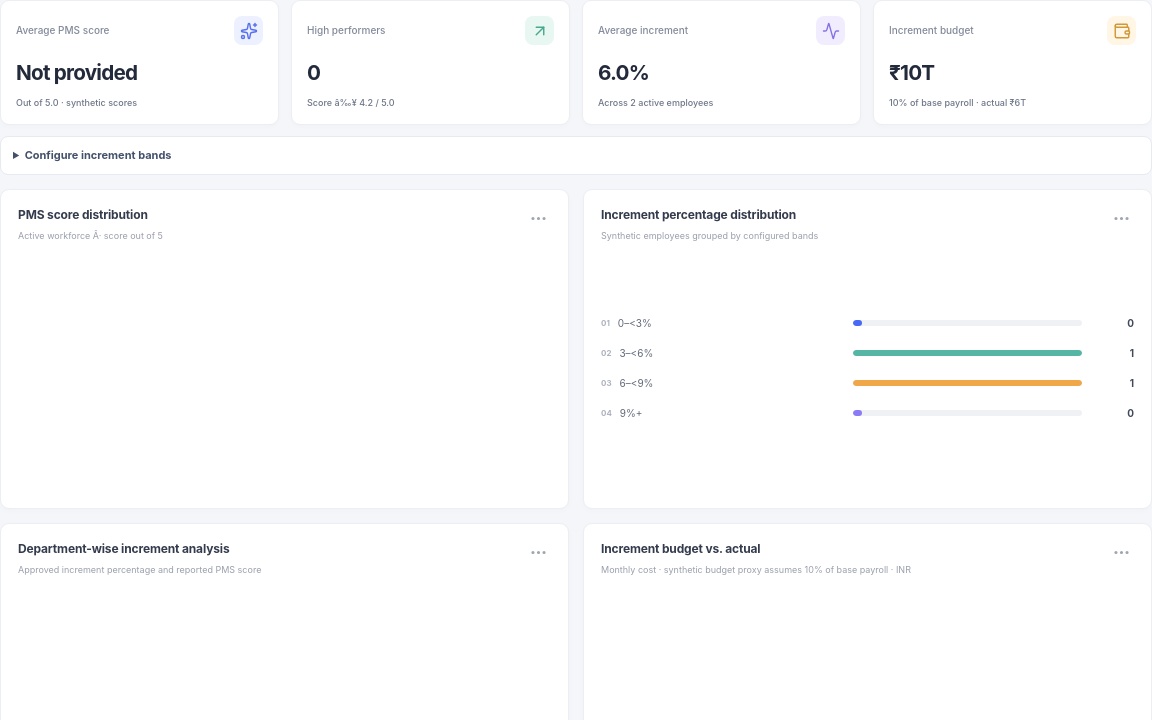
Test: configurable increment bands › applies valid cutoffs and updates the visible distribution
Click the heading "Configure increment bands" at coordinates (98, 155), box [25,148,172,162]
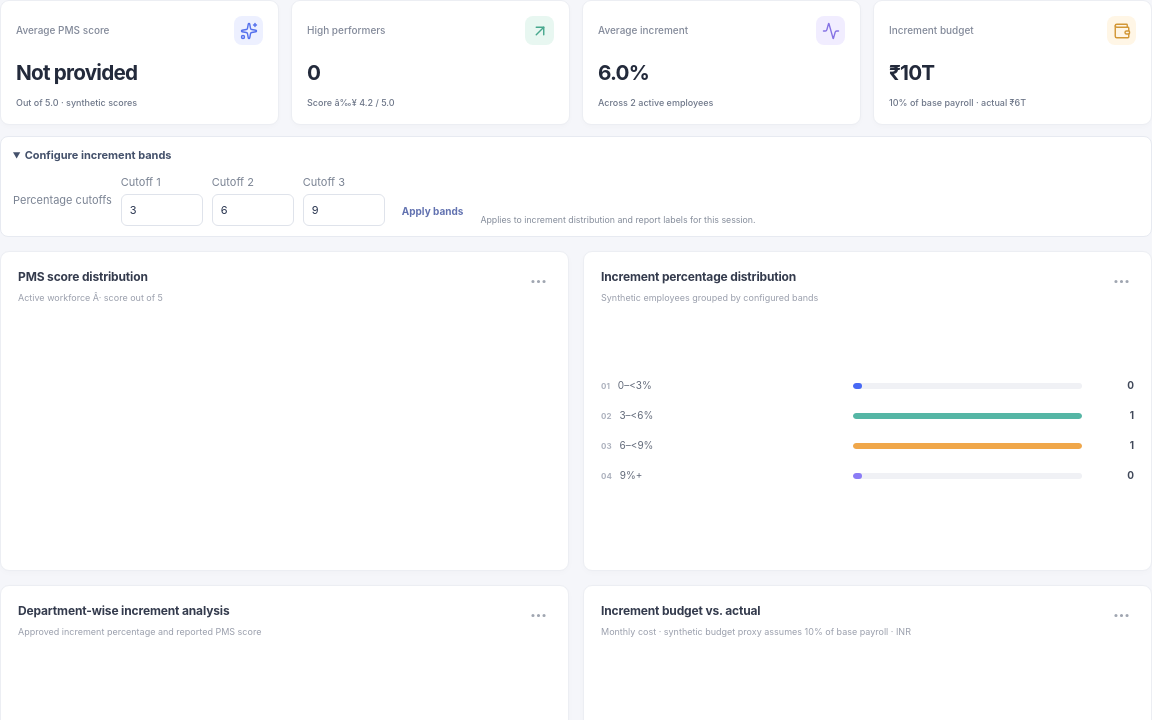
Expected: the text "3–<6%" is shown, [619,408,653,423]
Expected: the text "6–<9%" is shown, [620,438,653,453]
Replace the text in the number field named "Increment band cutoff 1" with "5" at coordinates (162, 210), box [121,194,203,226]
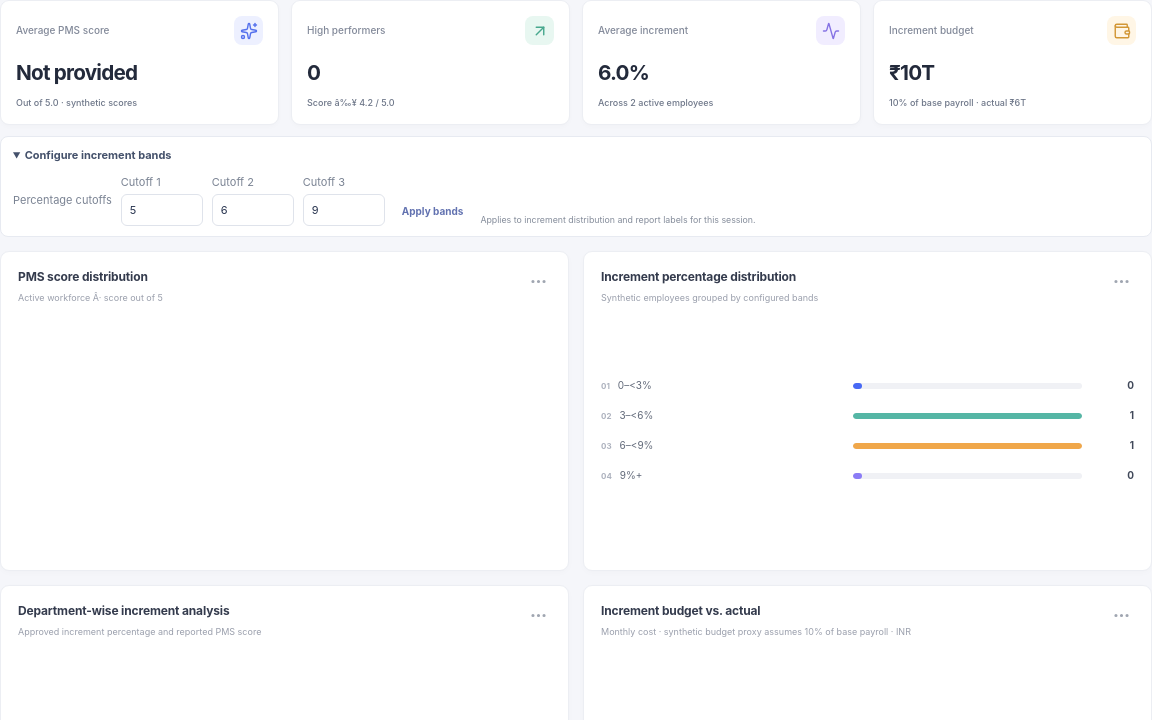
Replace the text in the number field named "Increment band cutoff 2" with "10" at coordinates (253, 210), box [212,194,294,226]
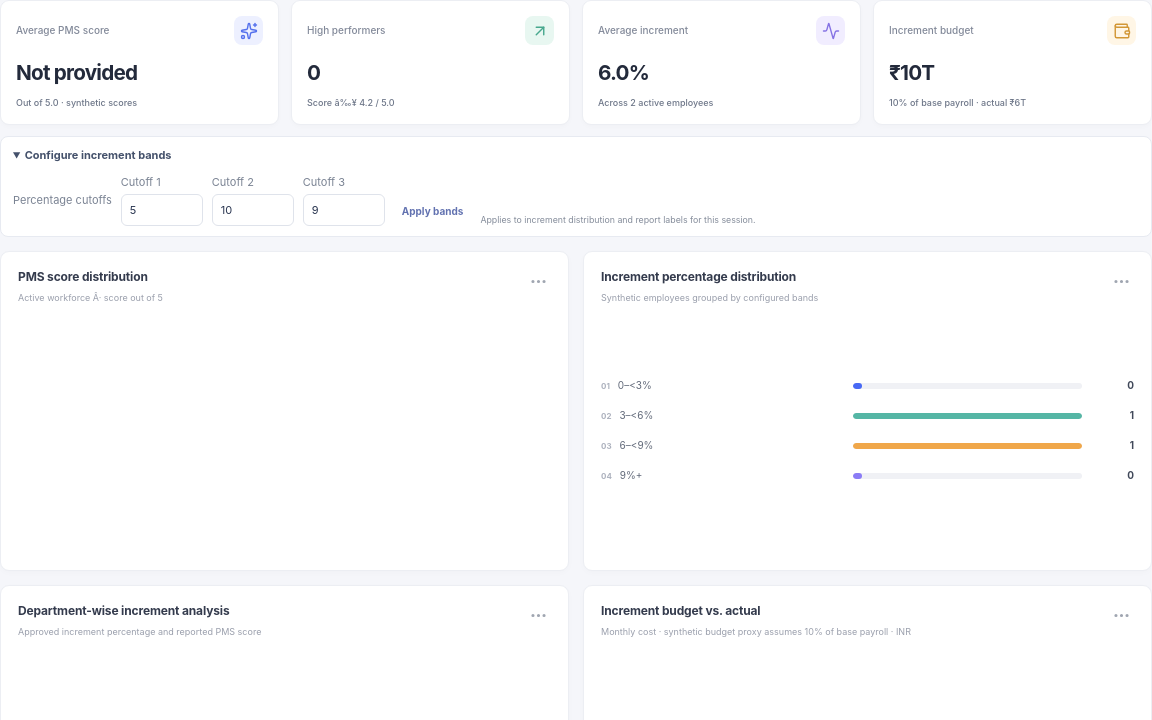
Replace the text in the number field named "Increment band cutoff 3" with "15" at coordinates (344, 210), box [303,194,385,226]
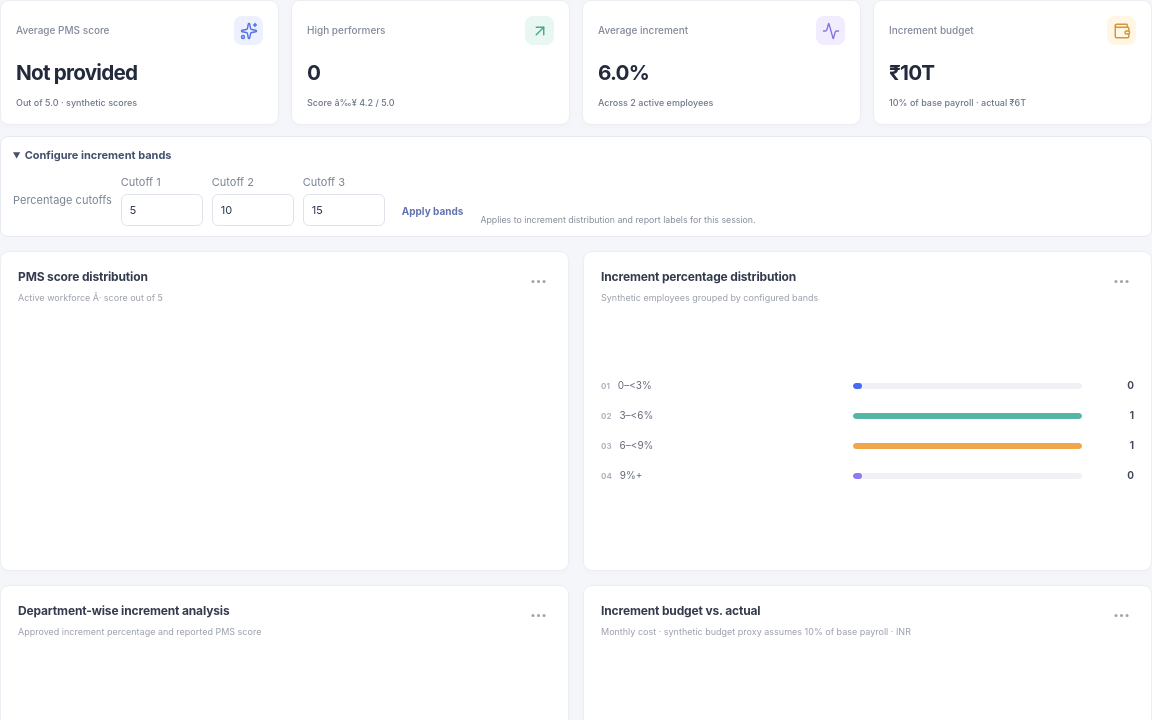
Submit the form "Apply bands", box [13,174,756,226]
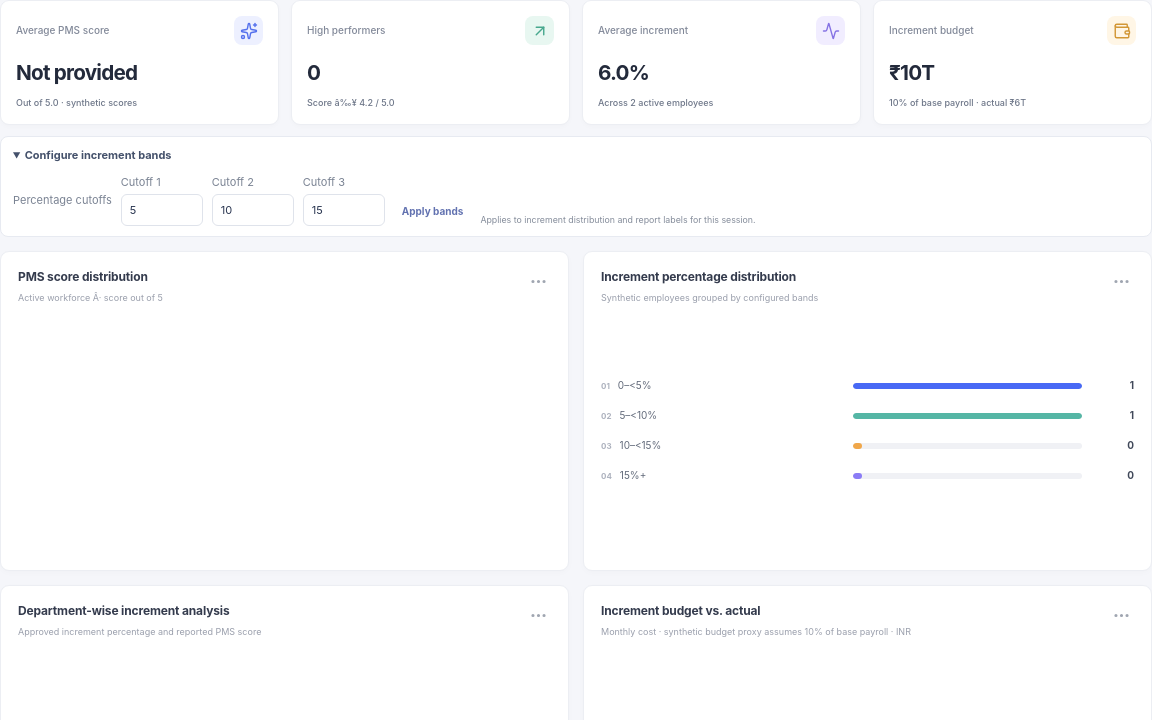
Expected: the text "0–<5%" is shown, [618,378,652,393]
Expected: the text "5–<10%" is shown, [619,408,657,423]
Expected: the text "3–<6%" is gone
